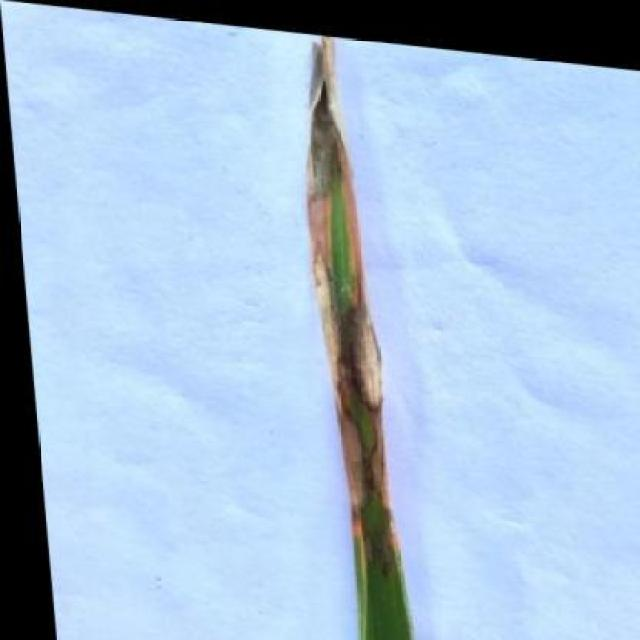Brown_Spot: (284, 24, 418, 640)
